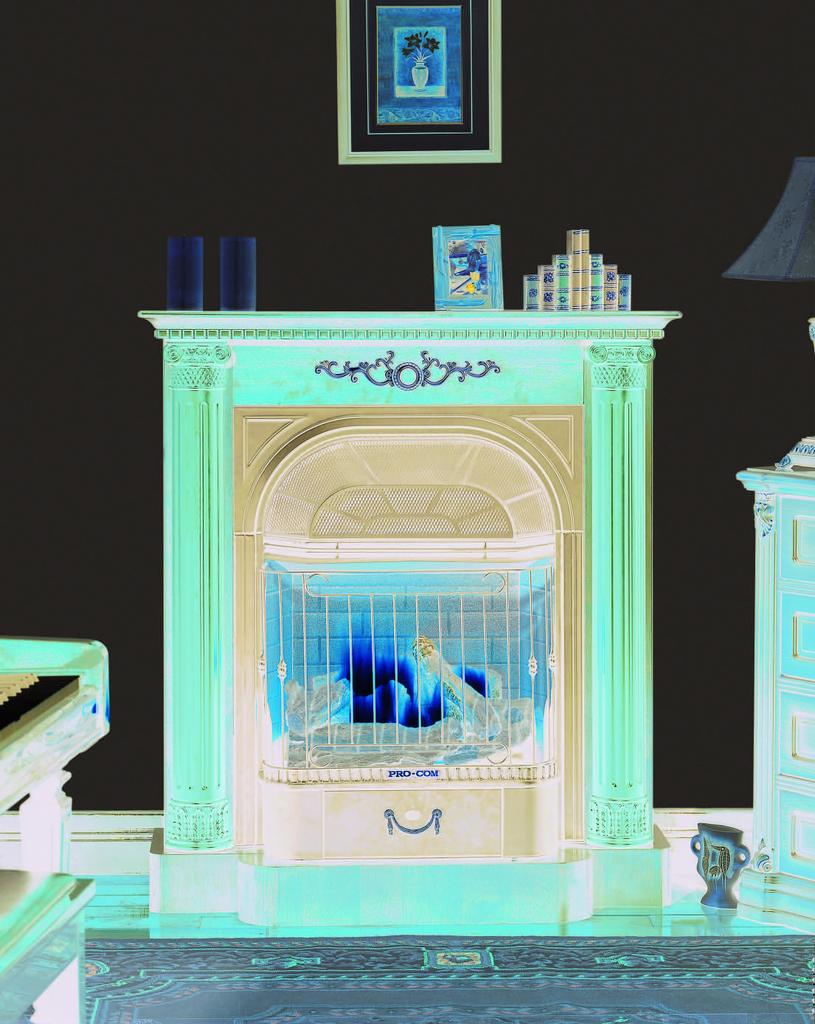Fire: (302, 589, 505, 740)
